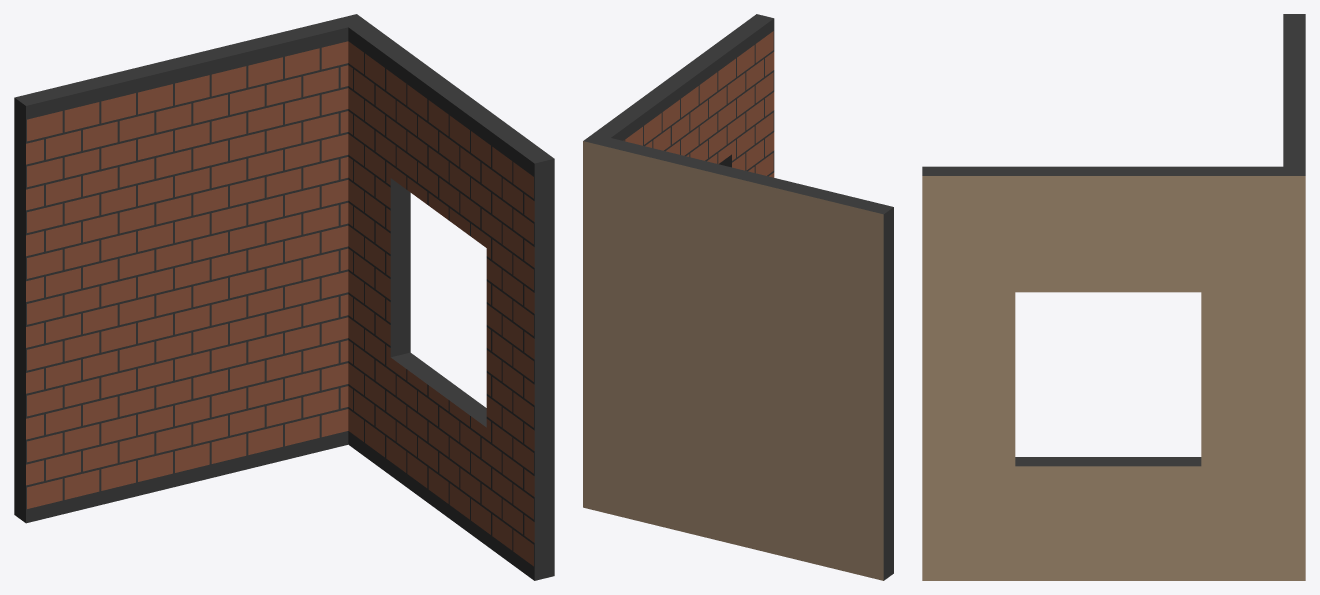
Rendered from Wall2_C10_11.fbx.
The picture shows the model from 3 angles, left to right: view 1: azimuth 30°, elevation 25°; view 2: azimuth 150°, elevation 25°; view 3: azimuth 270°, elevation 25°; orthographic projection. The views are drawn at different scales.
Parts seen in each view (by area): view 1: Wall2_C10_11; view 2: Wall2_C10_11; view 3: Wall2_C10_11.
Boxes of the visible parts, x1,y1,x2,y2 form: Wall2_C10_11: (14, 14, 554, 580); Wall2_C10_11: (583, 14, 893, 580); Wall2_C10_11: (922, 14, 1305, 580).
Size of the model in its own units: 258 by 300 by 258.
